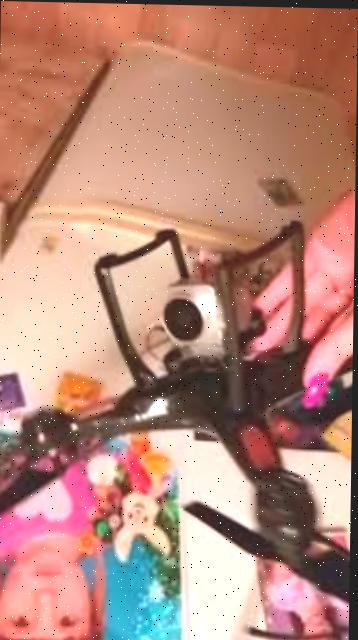drone: (0, 202, 356, 628)
